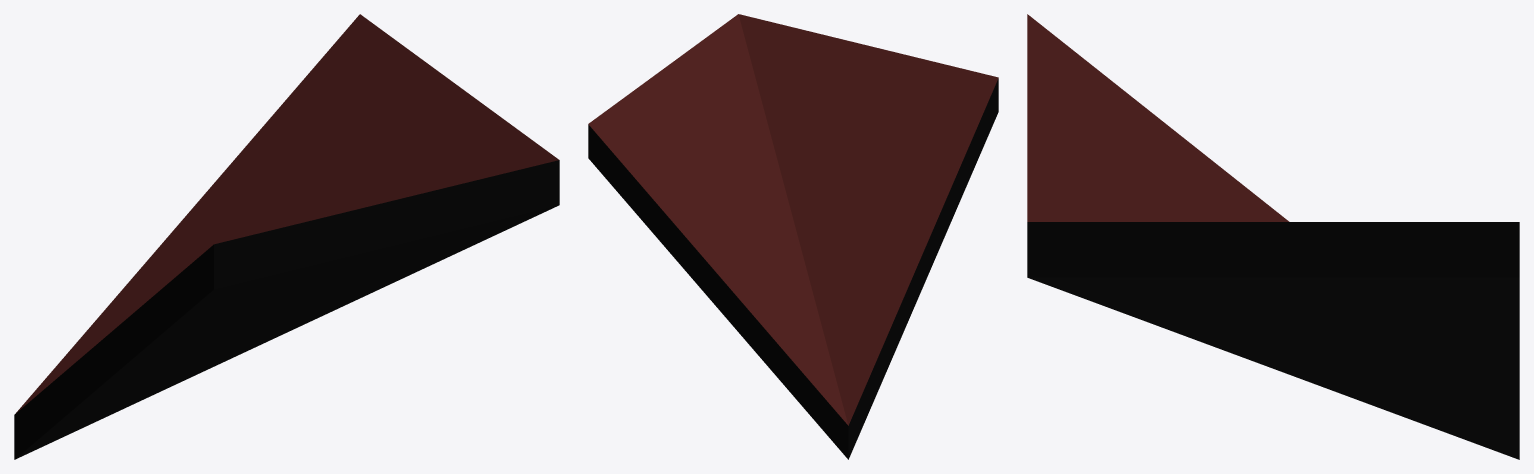
The picture shows the model from 3 angles, left to right: view 1: azimuth 30°, elevation 25°; view 2: azimuth 150°, elevation 25°; view 3: azimuth 270°, elevation 25°; orthographic projection. The views are drawn at different scales.
Parts seen in each view (by area): view 1: Cube.006; view 2: Cube.006; view 3: Cube.006.
Boxes of the visible parts, x1,y1,x2,y2 form: Cube.006: (14, 14, 559, 459); Cube.006: (588, 14, 998, 459); Cube.006: (1027, 14, 1519, 459).
Size of the model in its own units: 200 by 200 by 200.
